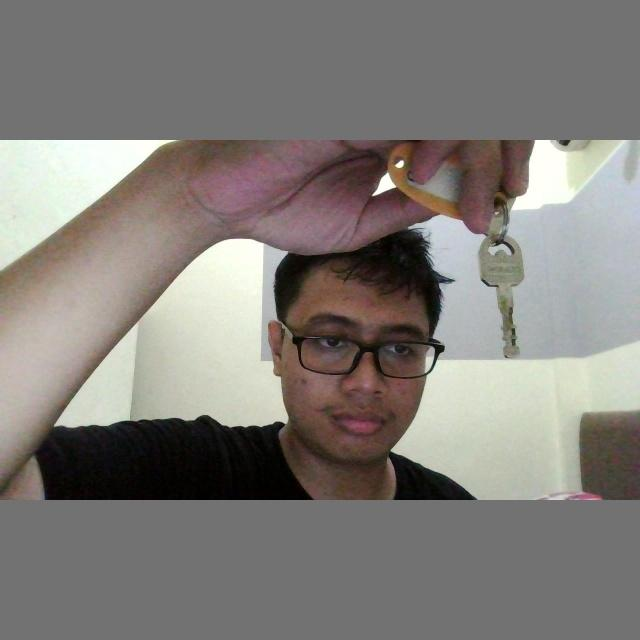Keys: (471, 232, 537, 364)
